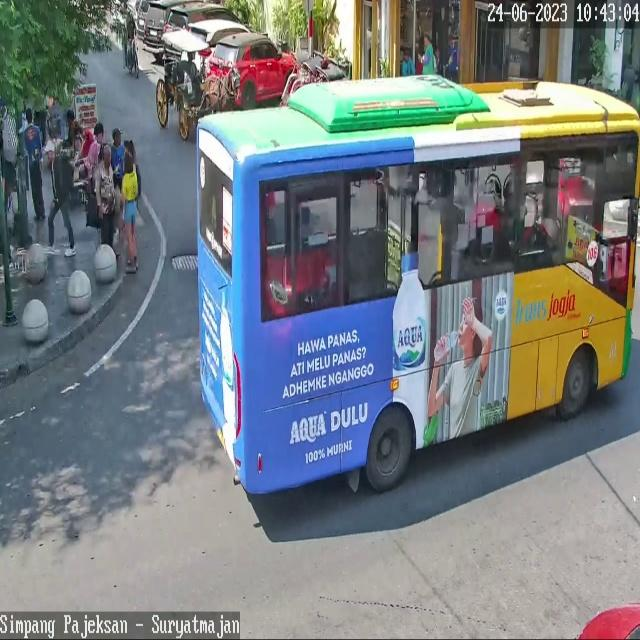car: (193, 77, 640, 495)
motorcycle: (206, 33, 300, 113), (163, 3, 246, 63), (180, 21, 252, 87), (143, 0, 169, 53)
